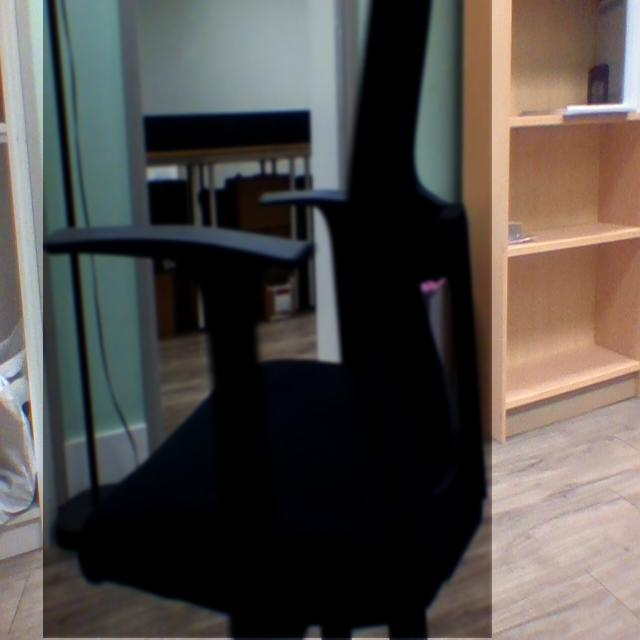black-chair: (43, 0, 493, 639)
